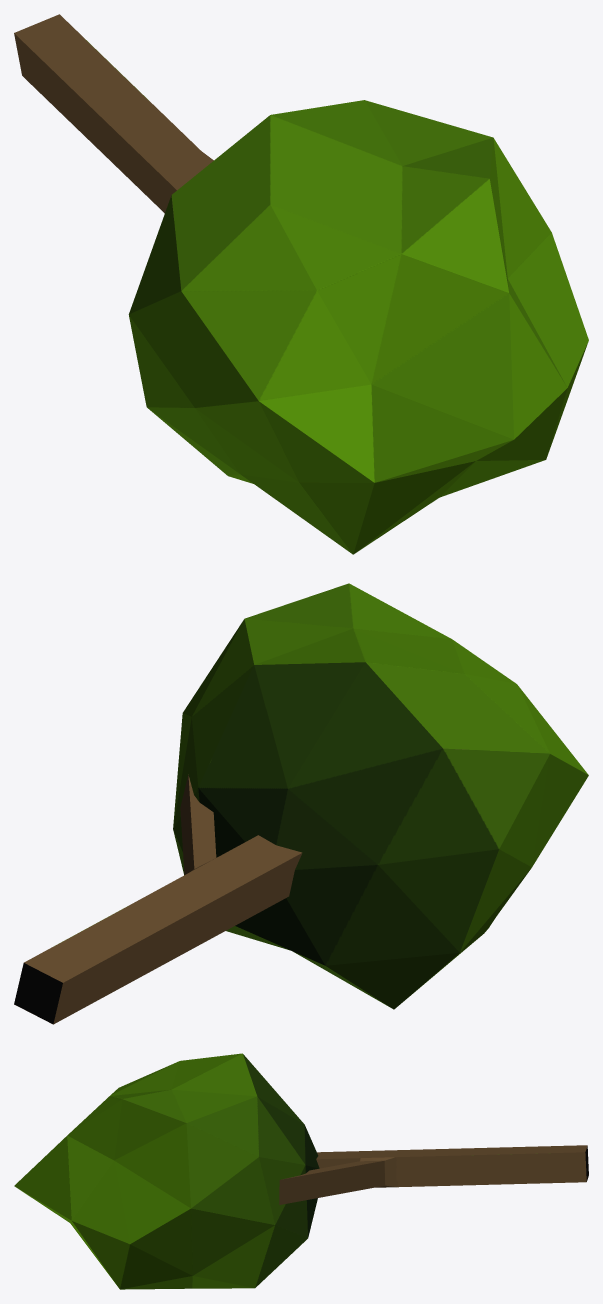
Rendered from tree.obj.
3 renders of one model, top to bottom at view 1: azimuth 30°, elevation 25°; view 2: azimuth 150°, elevation 25°; view 3: azimuth 270°, elevation 25°, orthographic. The views are drawn at different scales.
Parts seen in each view (by area): view 1: Object.1, Object.2; view 2: Object.1, Object.2; view 3: Object.1, Object.2.
Boxes of the visible parts, left/top/right/bottom form: Object.1: left=128, top=100, right=588, bottom=554; Object.2: left=14, top=14, right=213, bottom=213; Object.1: left=173, top=583, right=588, bottom=1009; Object.2: left=14, top=774, right=302, bottom=1024; Object.1: left=14, top=1053, right=319, bottom=1289; Object.2: left=279, top=1145, right=588, bottom=1204.
Bounding box in the file's own units: 21.84 × 19.85 × 47.88.
1 material, 1 textured.
